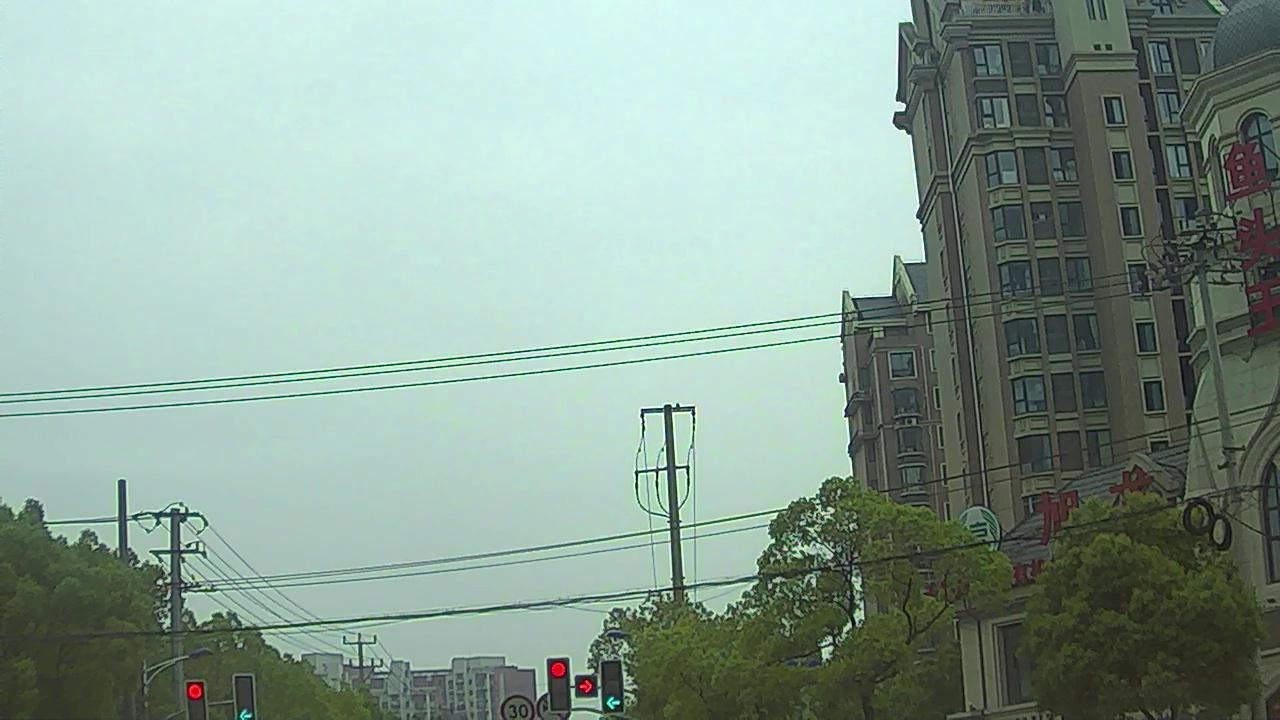traffic_light: (602, 659, 624, 716), (547, 658, 570, 710), (235, 676, 255, 720), (187, 683, 205, 719)
